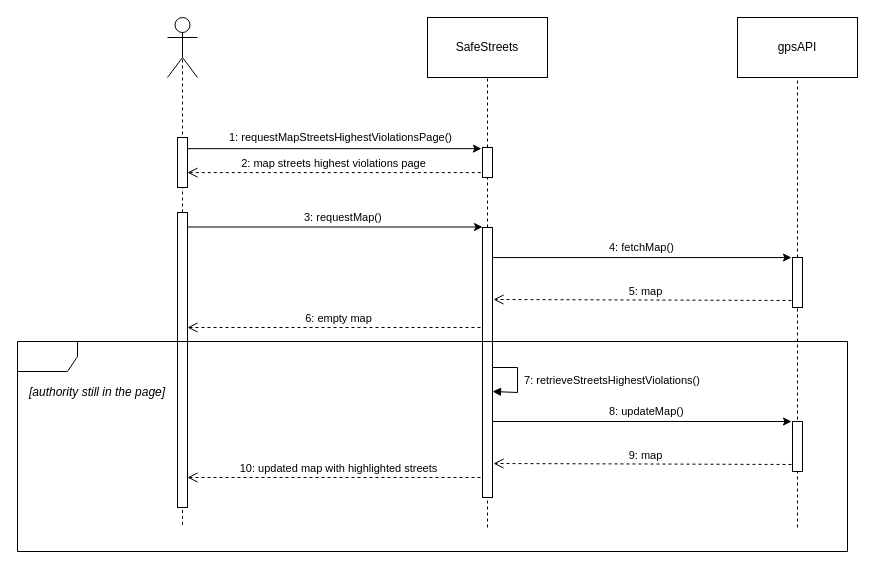
Image size: 875x569. Some labels were removed from this diagram. The box of each missing label's shape, as (x1, y1, x2, y2) in pixels:
Authority: (166, 16, 198, 78)
loop: (16, 340, 848, 552)
